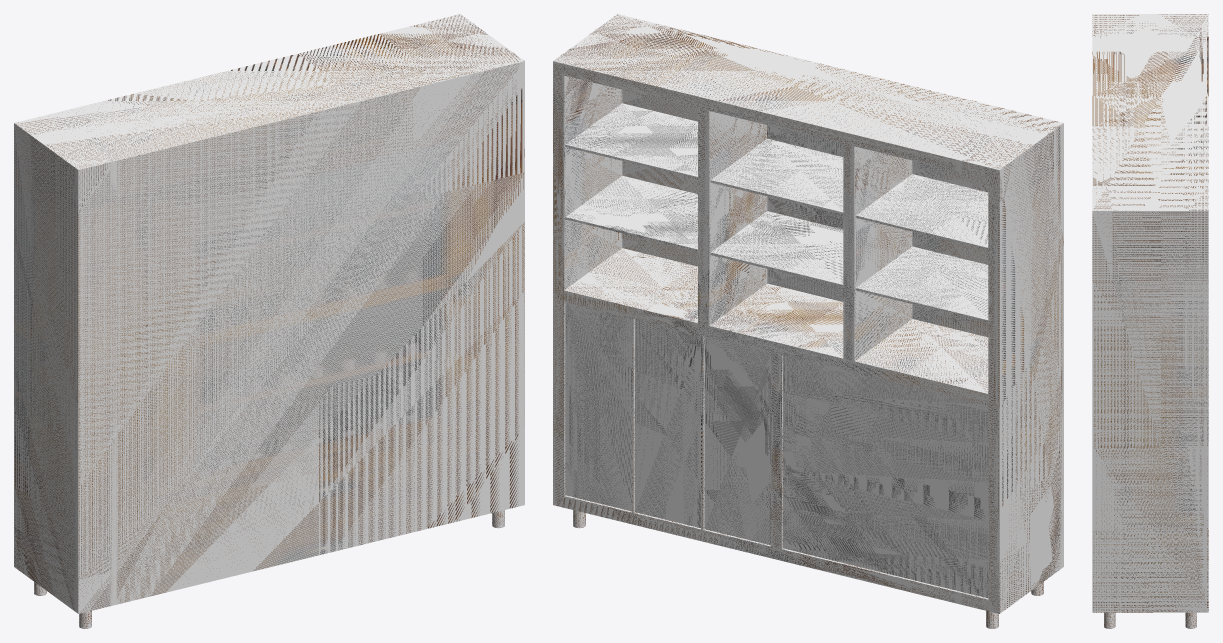
3 renders of one model, left to right at view 1: azimuth 30°, elevation 25°; view 2: azimuth 150°, elevation 25°; view 3: azimuth 270°, elevation 25°, orthographic. The views are drawn at different scales.
Visible parts, largest first — view 1: mesh1_mesh1-geometry; view 2: mesh1_mesh1-geometry; view 3: mesh1_mesh1-geometry.
Boxes of the visible parts, x1,y1,x2,y2 form: mesh1_mesh1-geometry: (14,14,524,628); mesh1_mesh1-geometry: (553,14,1063,628); mesh1_mesh1-geometry: (1092,14,1208,628).
Size of the model in its own units: 0.6963 by 0.6963 by 0.1741.
